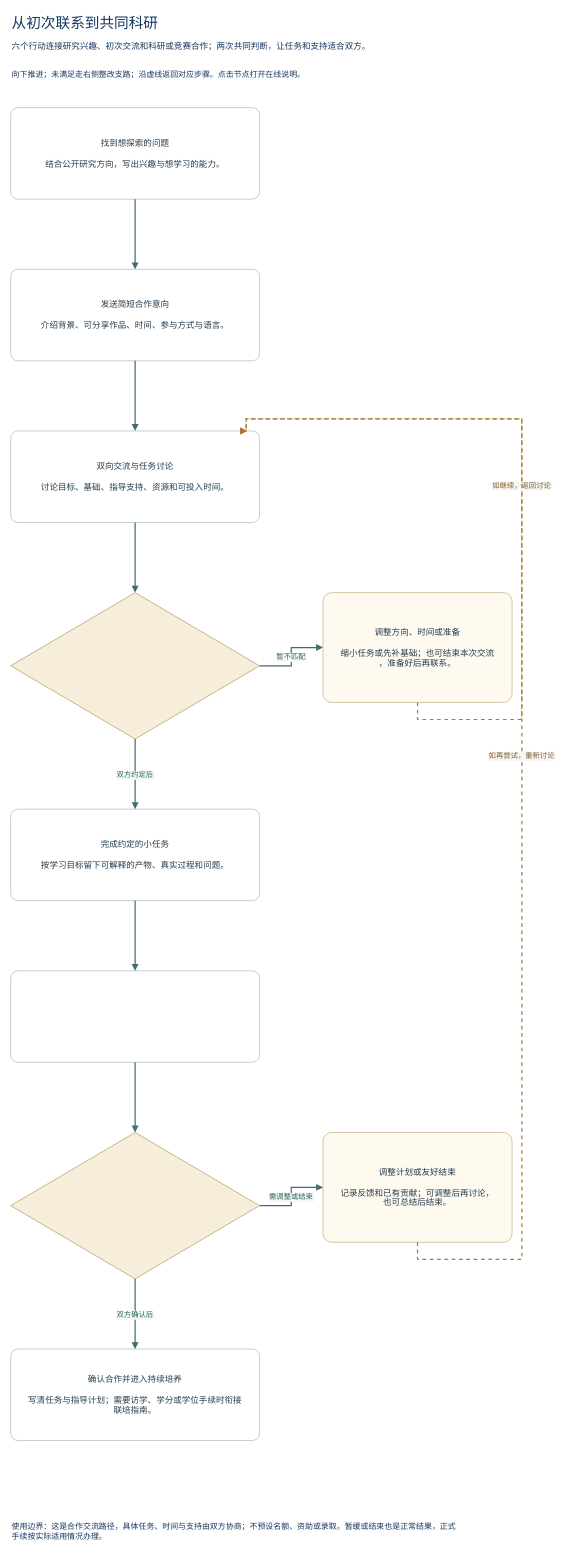
Some shapes in this 566 by 1559 pixel diagram are drawn without their labels. The centre of each missing label's shape, as x and y in pixels:
"共同复盘与获得反馈 交流成果、困难、个人贡献与所需支持。" goes at (135,1016).
"双方愿意且具备条件继续？ 确认方向匹配、指导能力、任务条件和 各自安排。" goes at (135,1205).
"能约定合适的起步任务？ 双方理解任务与反馈安排，相关条件能 够落实。" goes at (135,665).
